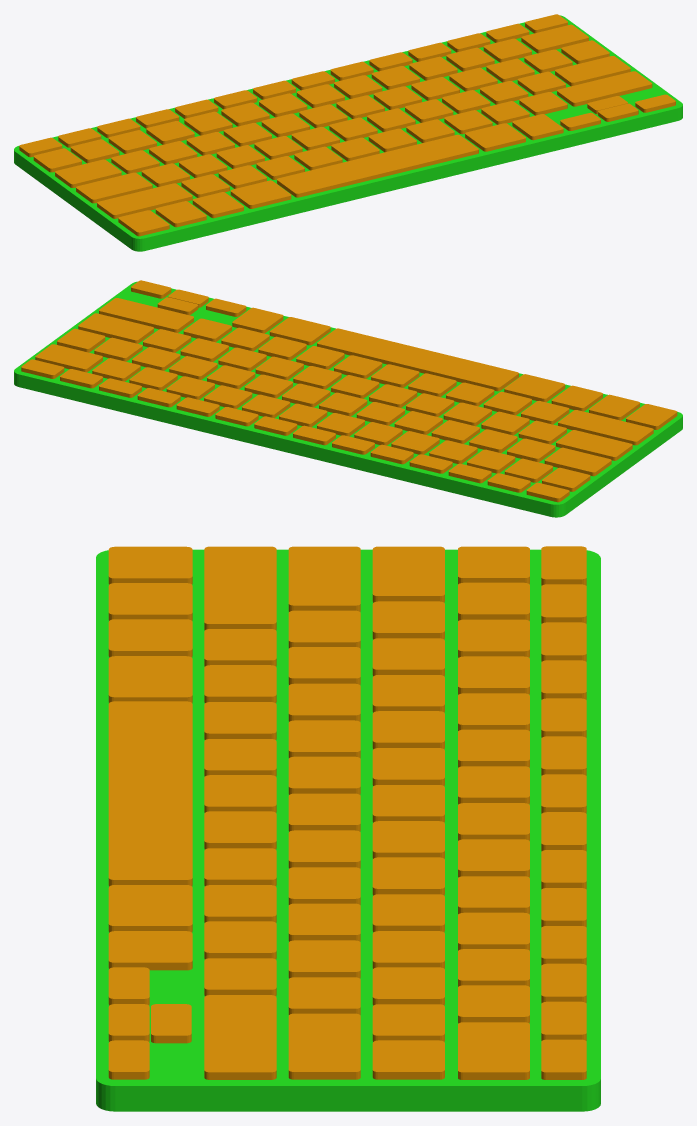
The model's file is Keyboard.fbx.
3 views of the same model, one above another, from view 1: azimuth 30°, elevation 25°; view 2: azimuth 150°, elevation 25°; view 3: azimuth 270°, elevation 25° (orthographic). The views are drawn at different scales.
Parts seen in each view (by area): view 1: Plane; view 2: Plane; view 3: Plane.
Boxes of the visible parts, box(x1,y1,x2,y2) form: Plane: box(14, 14, 682, 251); Plane: box(14, 280, 682, 517); Plane: box(96, 546, 600, 1111).
Bounding box in the file's own units: 444 × 12.81 × 177.
